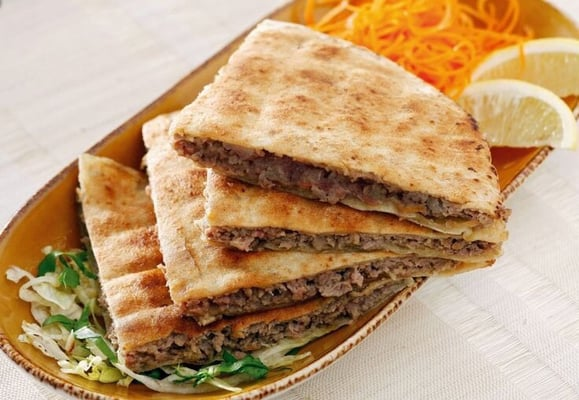soup: (137, 20, 512, 371)
